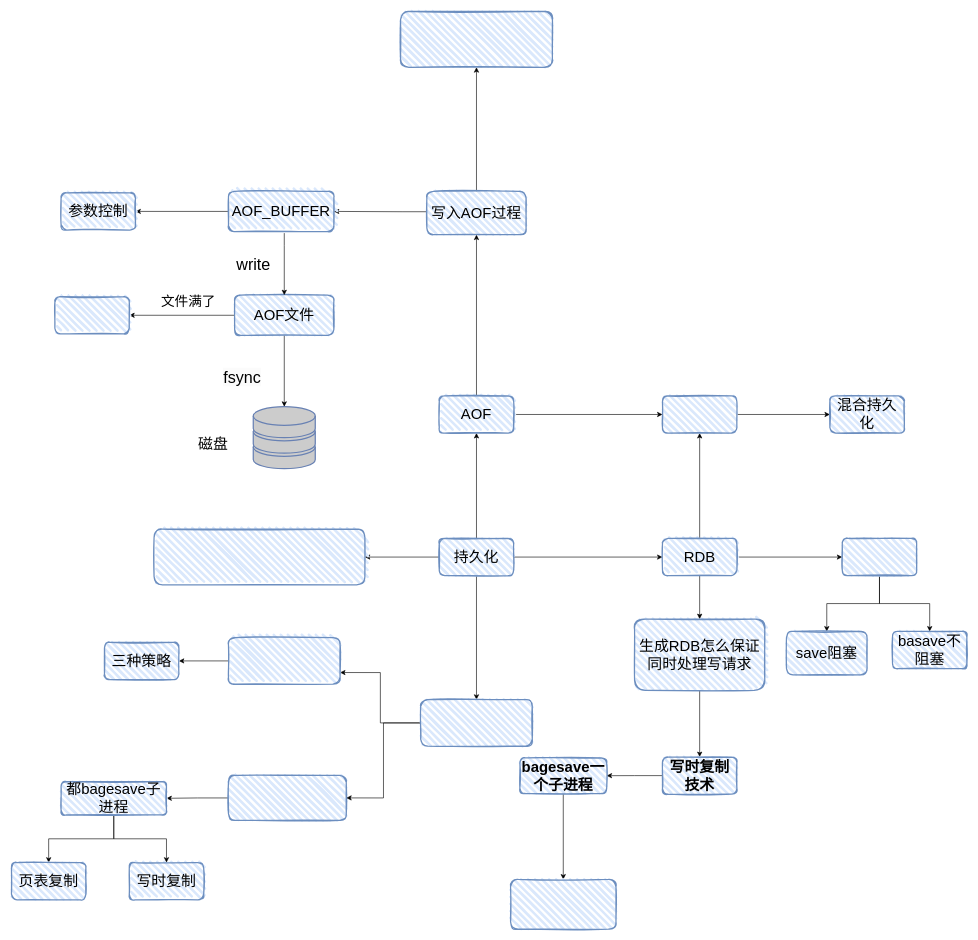
The diagram is 978 pixels wide and 940 high, and some of its shapes have lost their labels. Here are the shapes that lost their labels. From the top down, the centre of each, then its label:
At [476,39]: "对比MySQL的binlog/redolog写文件".
At [92,315]: "AOF重新".
At [699,414]: "区别".
At [259,556]: "持久化过程对应过期键的处理".
At [879,557]: "生成RDB文件".
At [284,660]: "对AOF重写影响".
At [476,722]: "大key对持久化的影响".
At [287,798]: "对AOF重写/RBD生成".
At [563,904]: "为什么用子进程而不是子线程".
